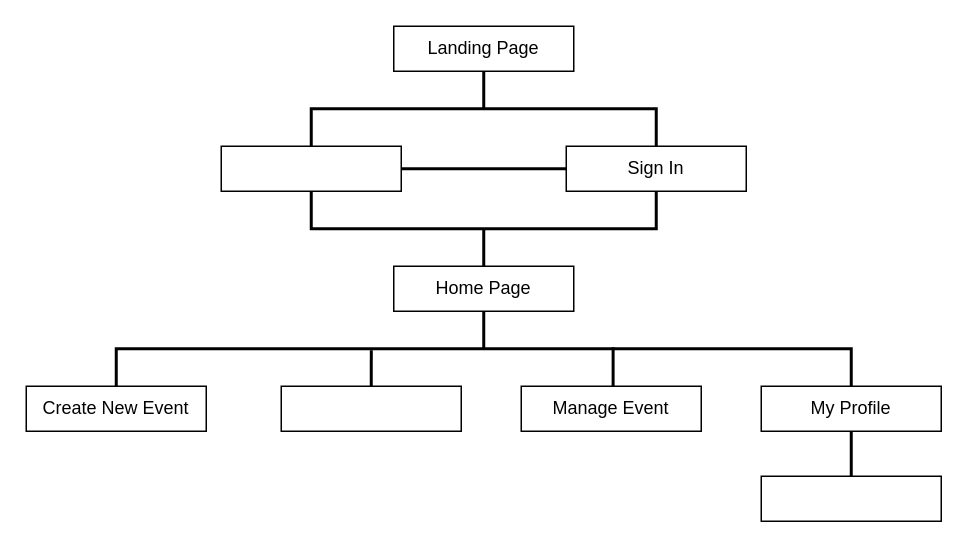
Image size: 968x548. Some labels were removed from this diagram. Here are the shapes that lost their labels. From the top down, the centre of each, then its label:
At pixel 310 168: "Sign Up".
At pixel 370 408: "Accept Invite".
At pixel 850 498: "Edit Profile".
